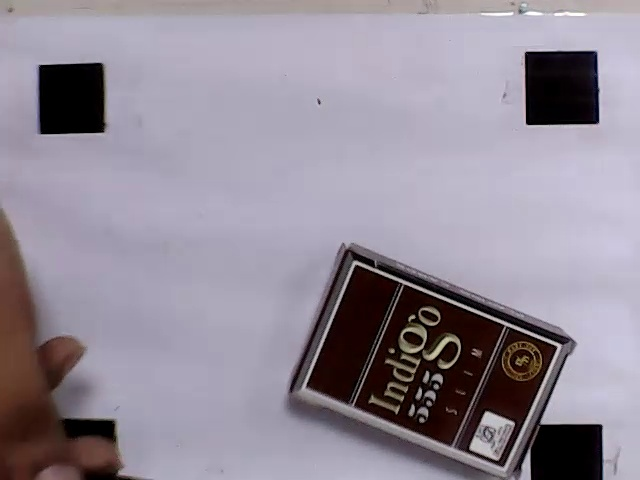BEX: (304, 262, 559, 469)
